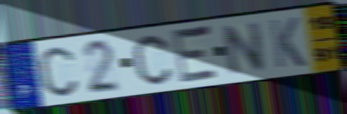2: (81, 38, 121, 96)
C: (131, 33, 175, 87), (37, 45, 80, 99)
E: (171, 23, 221, 86)
K: (268, 15, 309, 70)
N: (221, 19, 267, 78)
